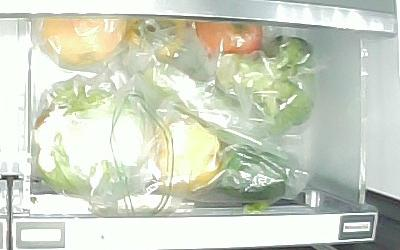apple_vinyl: (194, 21, 267, 59)
broccoli_vinyl: (215, 36, 312, 136)
grapefruit_vinyl: (37, 19, 131, 71)
lettuce_vinyl: (35, 82, 150, 194)
paprika_vinyl: (151, 121, 221, 193), (218, 145, 291, 202)
persimmon_vinyl: (126, 17, 187, 57)
